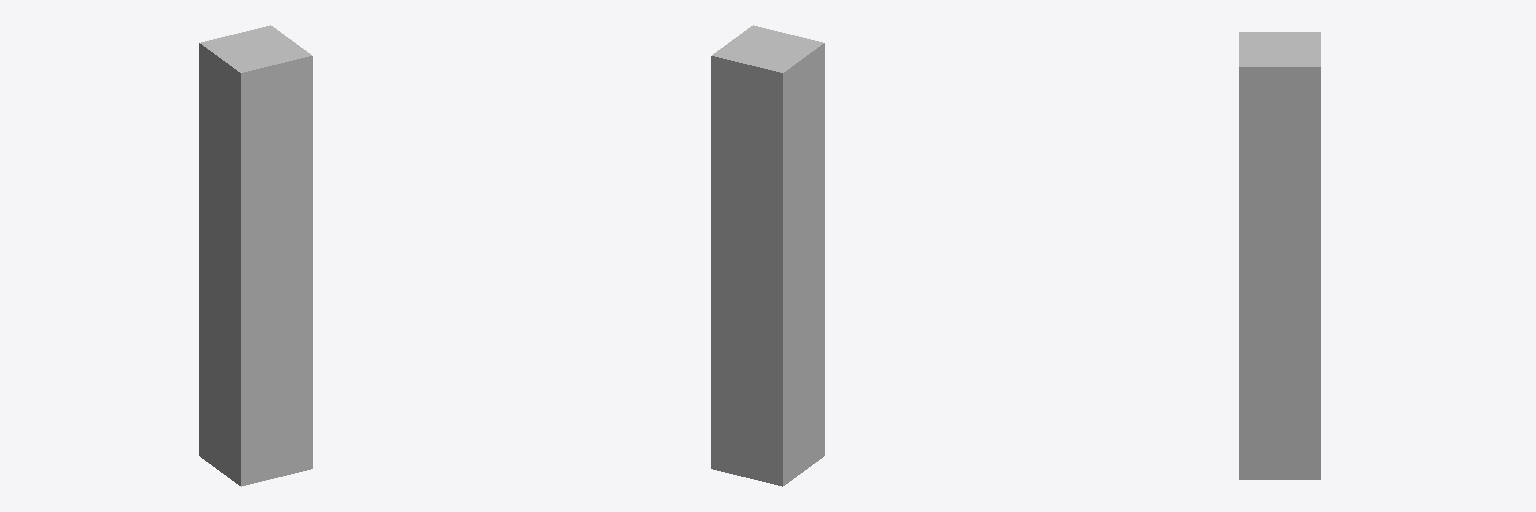
The model's file is Lowerarm_04.obj.
The picture shows the model from 3 angles: view 1: azimuth 30°, elevation 25°; view 2: azimuth 150°, elevation 25°; view 3: azimuth 270°, elevation 25°; orthographic projection.
Visible parts, largest first — view 1: Lowerarm_04; view 2: Lowerarm_04; view 3: Lowerarm_04.
Boxes of the visible parts, box(x1,y1,x2,y2) form: Lowerarm_04: box(199, 25, 312, 486); Lowerarm_04: box(711, 25, 824, 486); Lowerarm_04: box(1239, 32, 1320, 479).
Bounding box in the file's own units: 0.2 × 1.1 × 0.2.